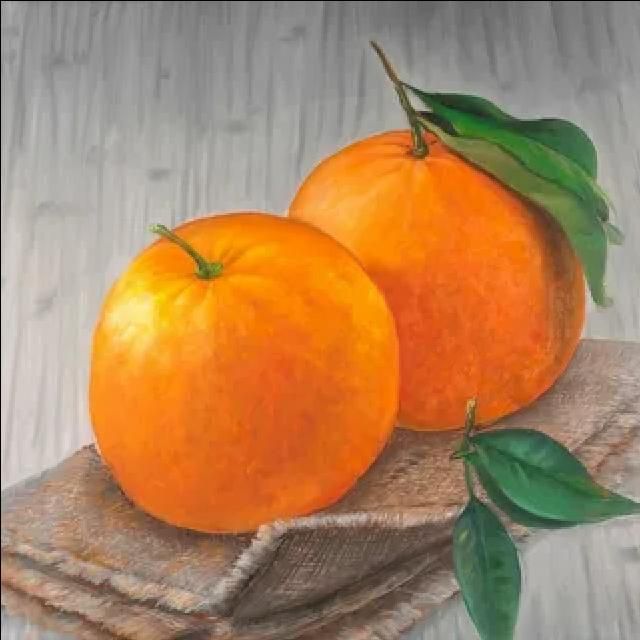orange: (70, 193, 404, 552)
